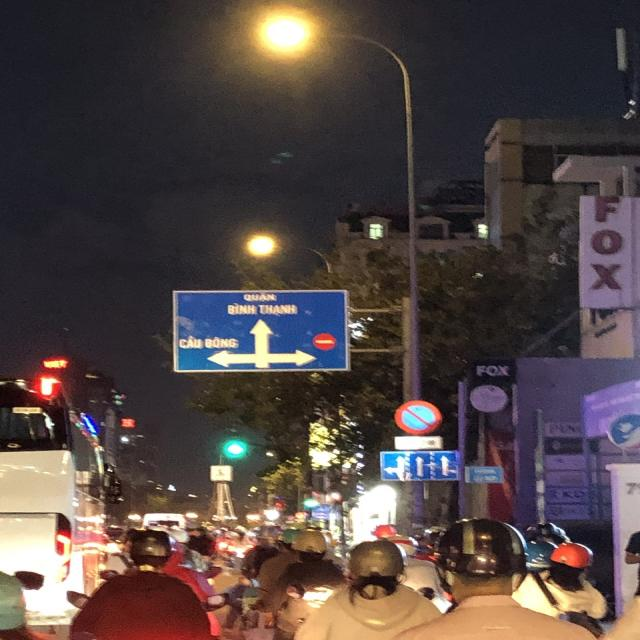Bien bao cam do xe: (392, 396, 444, 435)
